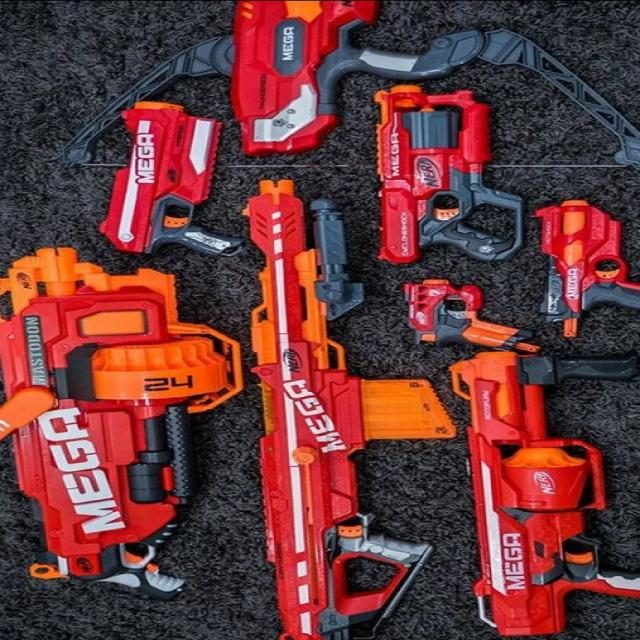Nerf gun: (248, 177, 461, 638), (1, 232, 254, 602), (443, 350, 640, 638), (188, 0, 418, 164), (359, 79, 540, 269), (89, 98, 252, 263), (527, 194, 639, 346), (391, 267, 541, 357)
